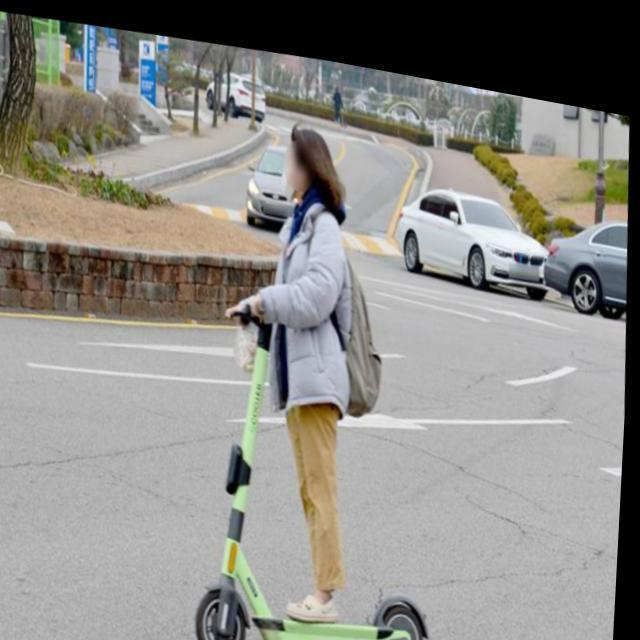Nonhelmet: (272, 118, 349, 205)
